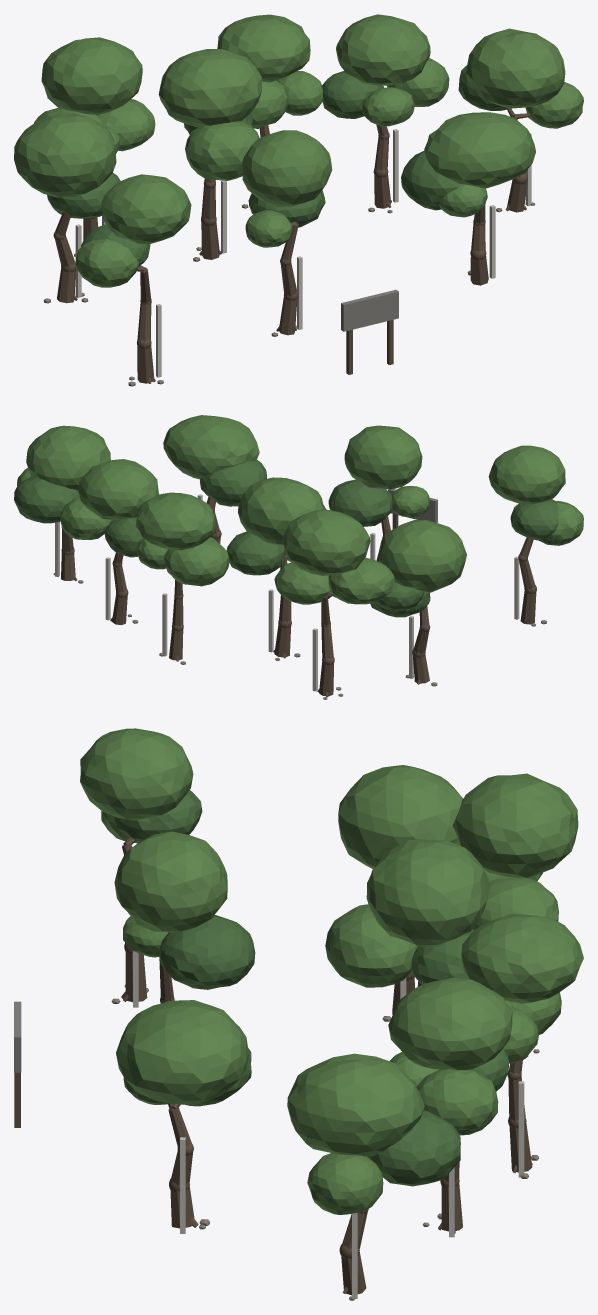
File: new_forest_lvl2.glb
The picture shows the model from 3 angles, top to bottom: view 1: azimuth 30°, elevation 25°; view 2: azimuth 150°, elevation 25°; view 3: azimuth 270°, elevation 25°; orthographic projection. The views are drawn at different scales.
Parts seen in each view (by area): view 1: new_forest; view 2: new_forest; view 3: new_forest.
Boxes of the visible parts, x1,y1,x2,y2 form: new_forest: (14, 14, 583, 386); new_forest: (14, 415, 583, 699); new_forest: (14, 728, 583, 1300).
Size of the model in its own units: 1 by 0.3465 by 0.6501.
